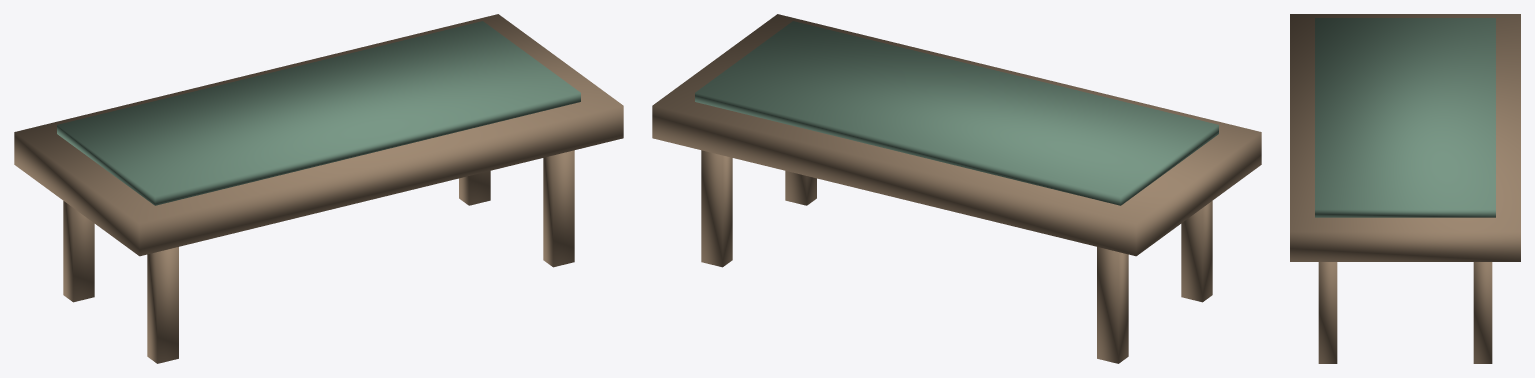
The model's file is pool_table__wide.glb.
3 views of the same model, side by side, from view 1: azimuth 30°, elevation 25°; view 2: azimuth 150°, elevation 25°; view 3: azimuth 270°, elevation 25° (orthographic). The views are drawn at different scales.
Parts seen in each view (by area): view 1: world; view 2: world; view 3: world.
Part boxes in pixels (box(x1,y1,x2,y2)): world: box(14, 14, 623, 363); world: box(652, 14, 1261, 363); world: box(1290, 14, 1520, 363).
Size of the model in its own units: 2.79 by 0.935 by 1.25.
